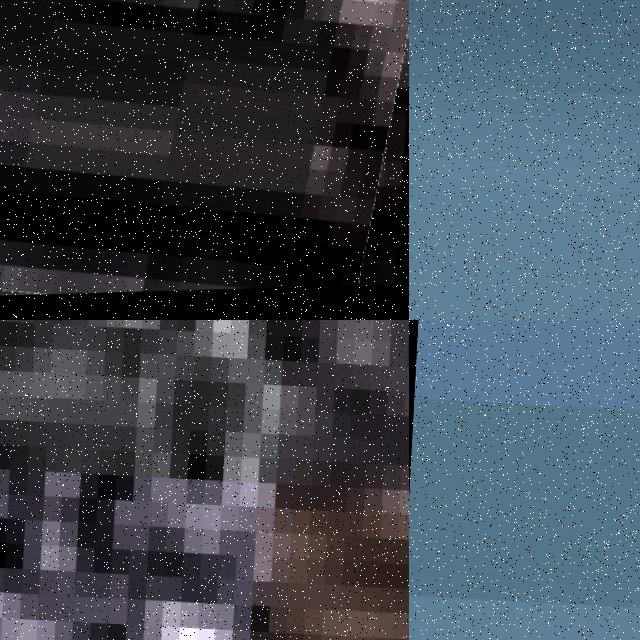drone: (0, 0, 409, 320)
